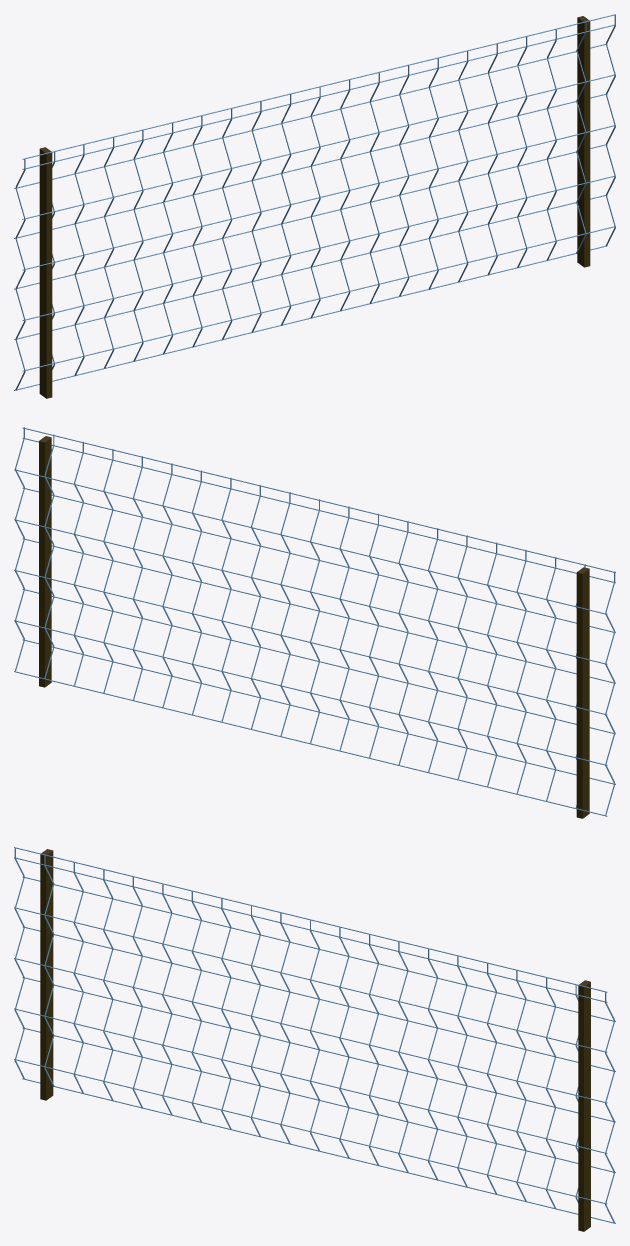
The model's file is toremeshsingle_h800_woodblue.fbx.
3 views of the same model, one above another, from view 1: azimuth 30°, elevation 25°; view 2: azimuth 150°, elevation 25°; view 3: azimuth 330°, elevation 25° (orthographic).
Parts seen in each view (by area): view 1: toremeshsingle_h800_blue; view 2: toremeshsingle_h800_blue; view 3: toremeshsingle_h800_blue.
Boxes of the visible parts, box(x1,y1,x2,y2) form: toremeshsingle_h800_blue: box(14, 14, 615, 398); toremeshsingle_h800_blue: box(14, 427, 615, 818); toremeshsingle_h800_blue: box(14, 847, 615, 1231).
Bounding box in the file's own units: 199 × 79.15 × 5.67.
Materials: 3 (2 with a texture image).
